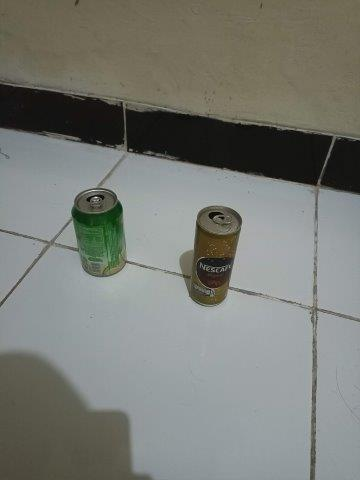kaleng: (191, 205, 243, 308), (72, 187, 127, 276)
